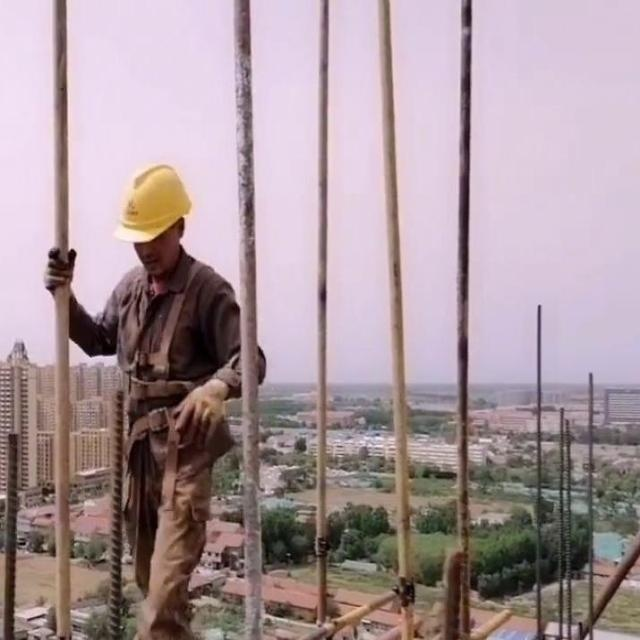Arnes_seguridad: (112, 256, 219, 401)
